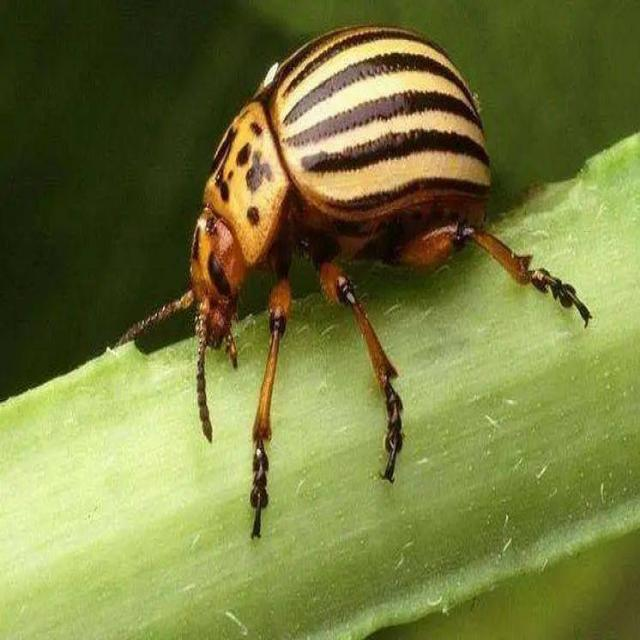ShuCaiHuaBanChong-Grown-: (138, 18, 536, 365)
